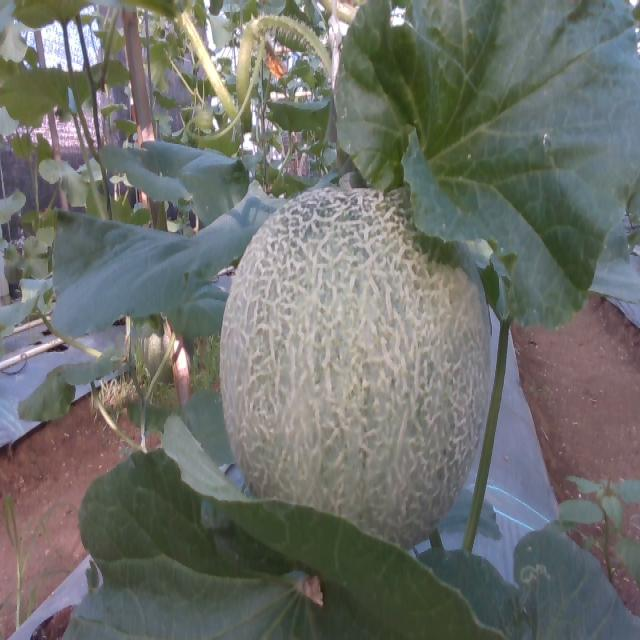melon: (221, 188, 491, 549)
